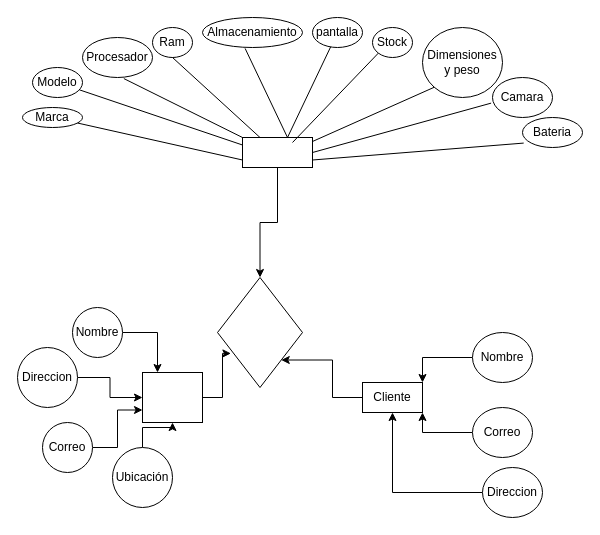
Image size: 600x535. Some labels were removed from this diagram. Each missing label, with the box of its shape:
Celular: (242, 136, 312, 168)
IStore (TIenda de iphone): (216, 276, 302, 388)
Tienda: (142, 372, 202, 422)
